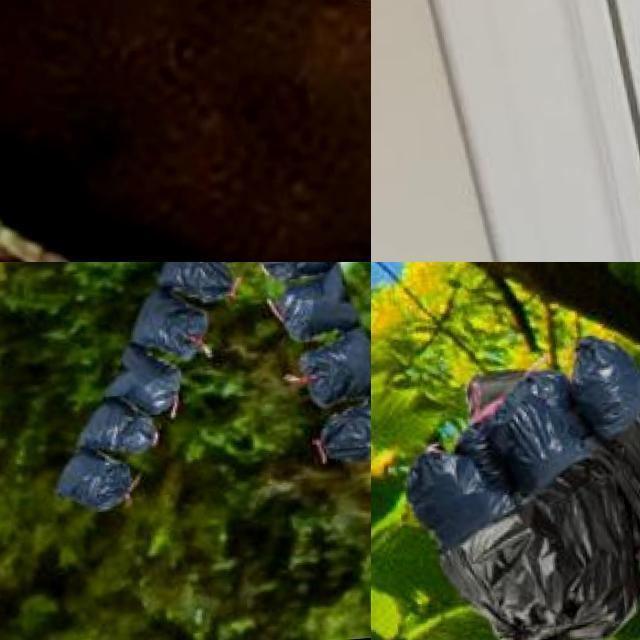waste: (428, 410, 640, 640), (462, 366, 600, 479), (402, 441, 512, 526), (571, 335, 640, 444), (126, 283, 210, 361), (101, 341, 186, 413), (277, 272, 357, 340), (52, 454, 144, 512), (293, 334, 371, 402), (75, 399, 156, 454), (313, 396, 371, 462), (155, 262, 238, 306), (260, 262, 348, 279)
